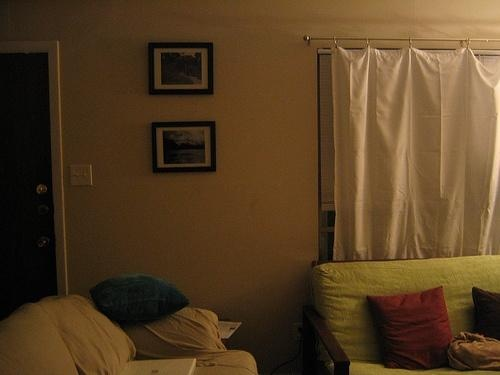sofa: (298, 259, 500, 375), (2, 287, 261, 375)
